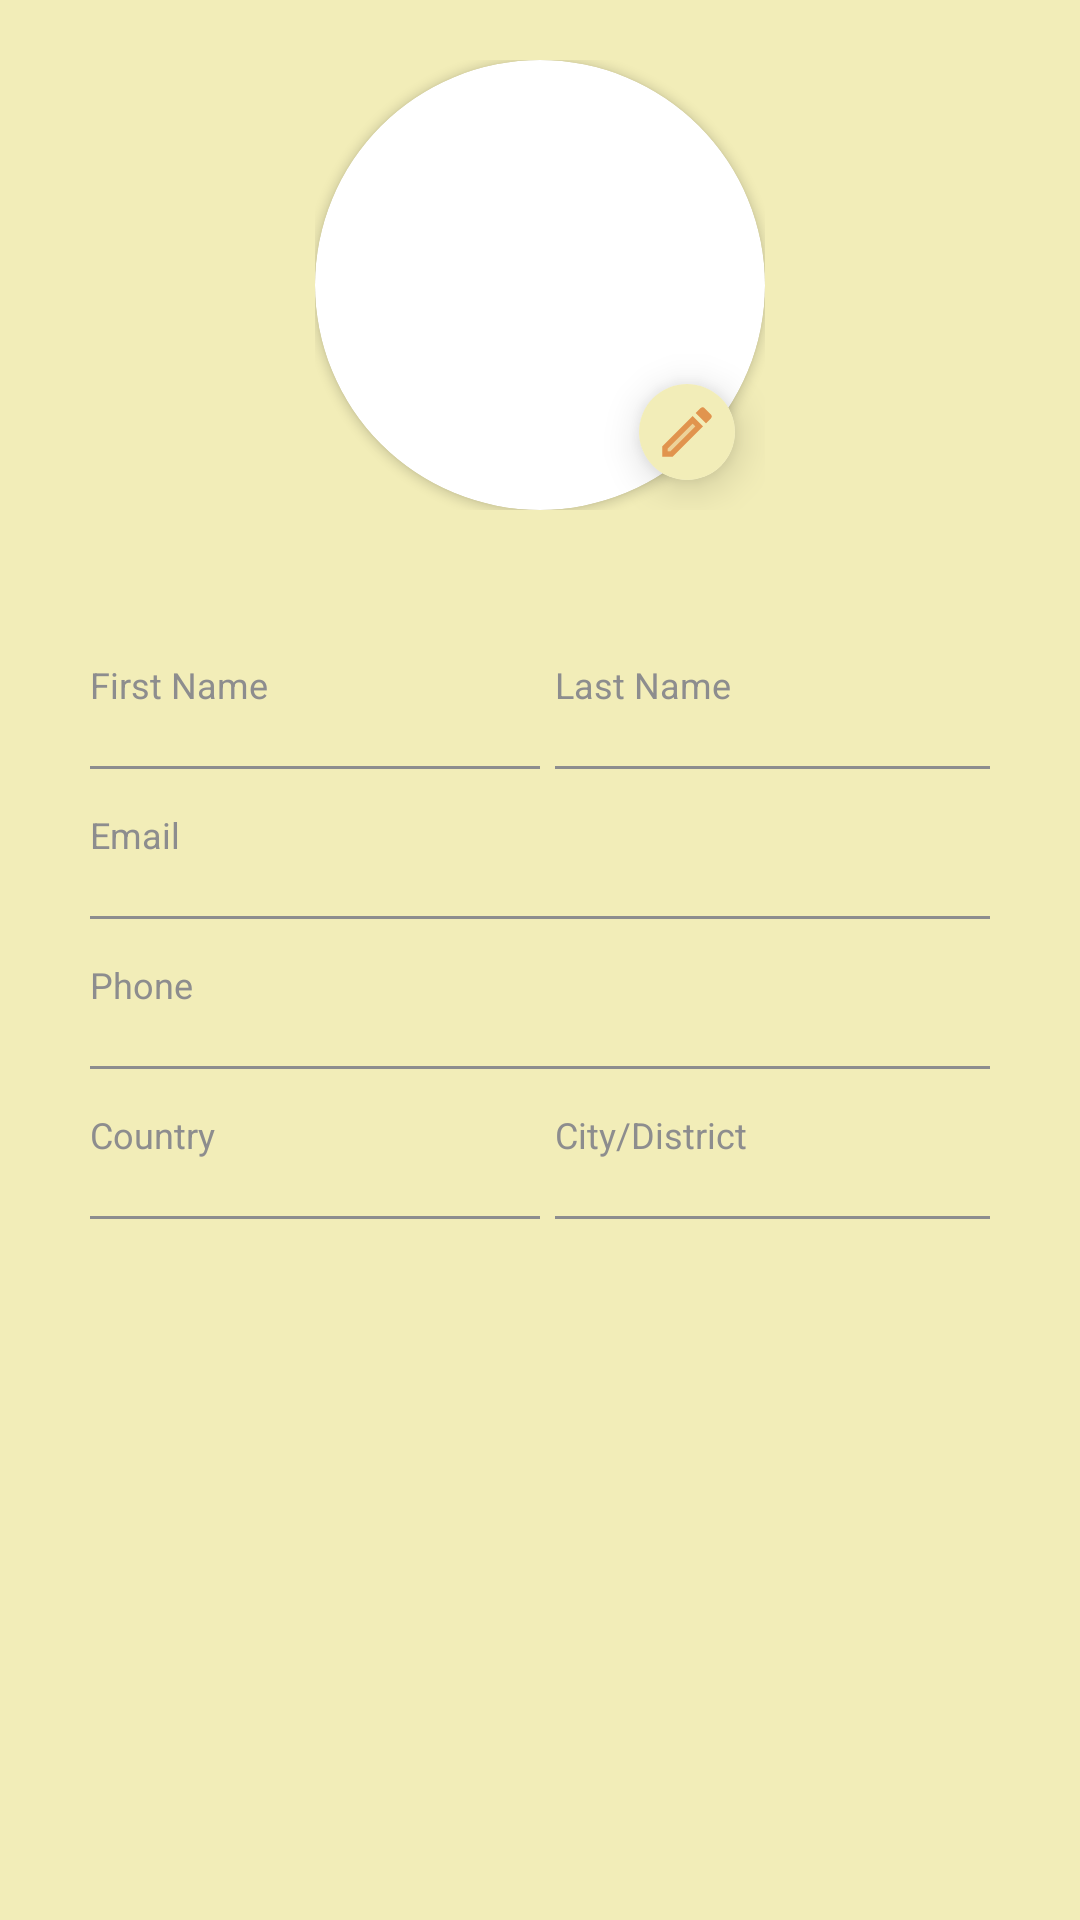

Named icons in this screenshot (1080px×1920px) and their centers, (x,y):
edit: (687,432)
